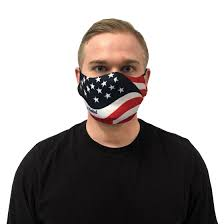cloth_mask: (77, 72, 151, 124)
